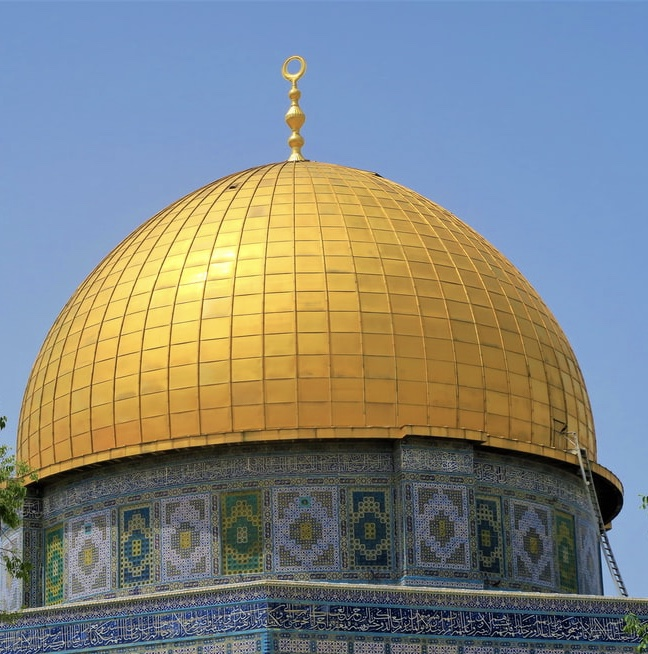Mosque: (22, 42, 632, 623)
